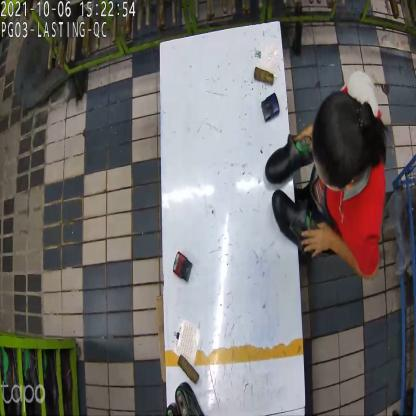shoes: (266, 133, 318, 250)
stamp: (172, 250, 194, 284), (260, 91, 279, 125)
